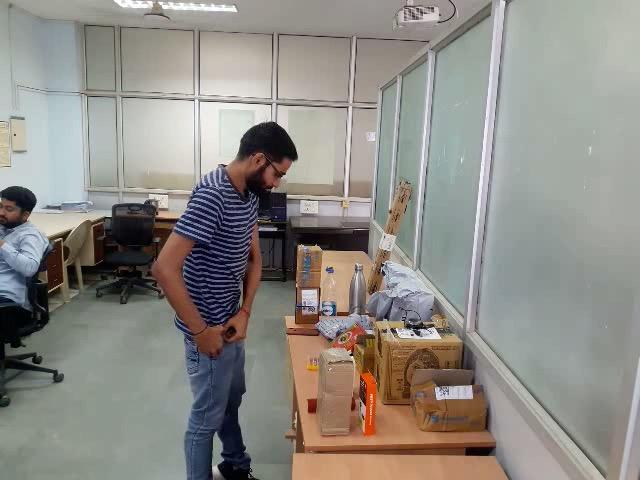shoplifting: (159, 307, 274, 399)
